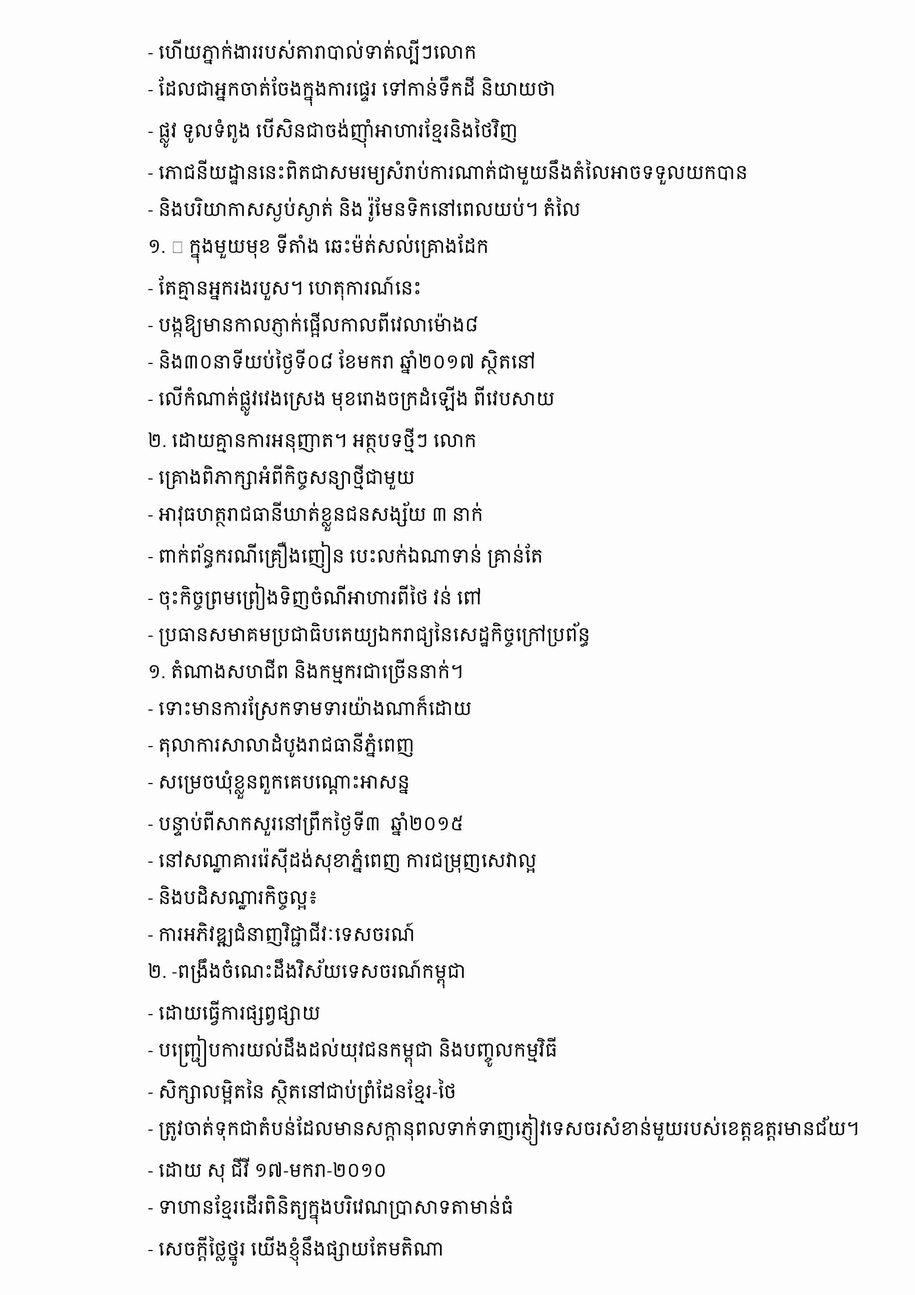text: (148, 1114, 864, 1146), (148, 159, 753, 185), (148, 1035, 563, 1067), (148, 541, 548, 573), (148, 76, 560, 106), (148, 386, 560, 416), (148, 196, 586, 222), (148, 118, 523, 148), (148, 622, 595, 647), (148, 1194, 518, 1224), (148, 233, 494, 264), (148, 501, 488, 532), (148, 958, 471, 989), (148, 848, 542, 873), (148, 349, 541, 374), (148, 583, 487, 610), (148, 1236, 449, 1266), (148, 427, 482, 453), (148, 39, 481, 65), (148, 695, 477, 721), (148, 312, 483, 337), (148, 659, 468, 684), (148, 811, 468, 836), (148, 1079, 462, 1104), (148, 770, 415, 799), (148, 464, 420, 490), (148, 921, 420, 947), (148, 732, 419, 758), (148, 275, 427, 300), (148, 1157, 392, 1183), (148, 1000, 325, 1026), (148, 885, 323, 910)
